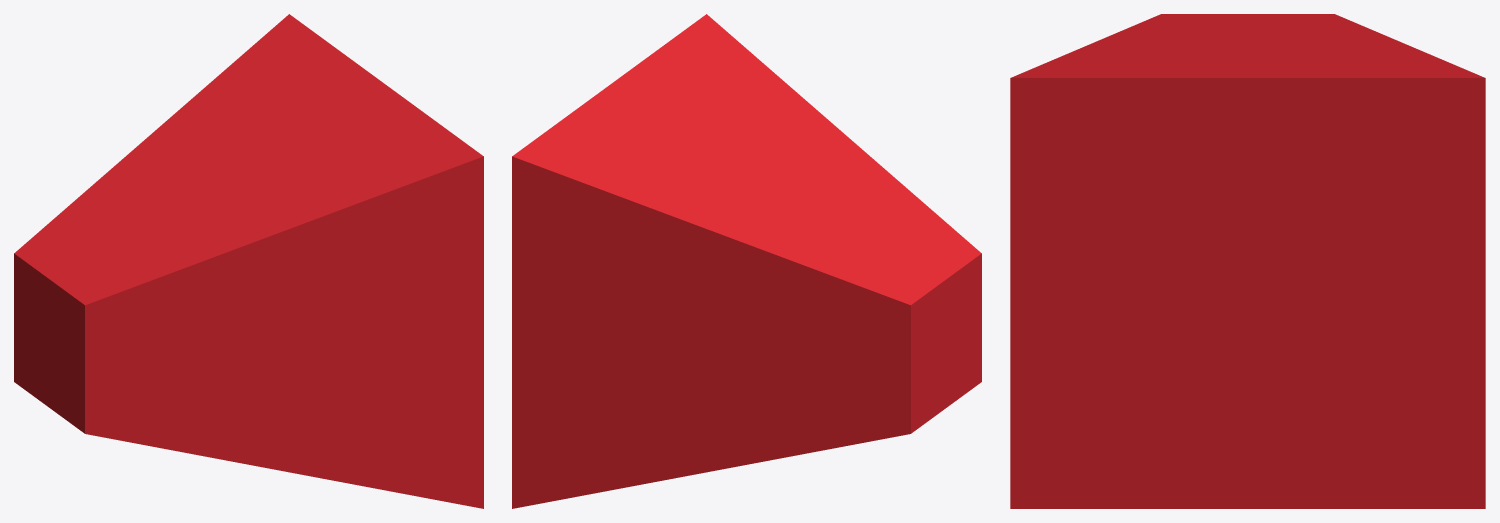
3 renders of one model, left to right at view 1: azimuth 30°, elevation 25°; view 2: azimuth 150°, elevation 25°; view 3: azimuth 270°, elevation 25°, orthographic. The views are drawn at different scales.
Parts seen in each view (by area): view 1: Cube; view 2: Cube; view 3: Cube.
Part boxes in pixels (left/top/right/bottom): Cube: left=14, top=14, right=483, bottom=508; Cube: left=512, top=14, right=981, bottom=508; Cube: left=1010, top=14, right=1485, bottom=508.
Bounding box in the file's own units: 0.3 × 0.3 × 0.3.
